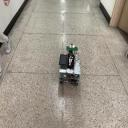cart: (59, 54, 81, 86)
